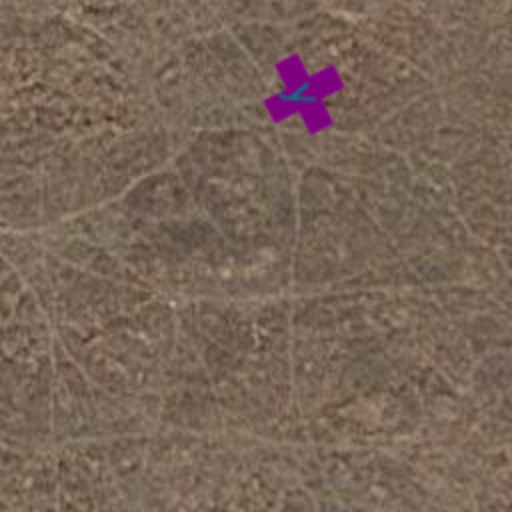cross: (248, 38, 360, 150)
